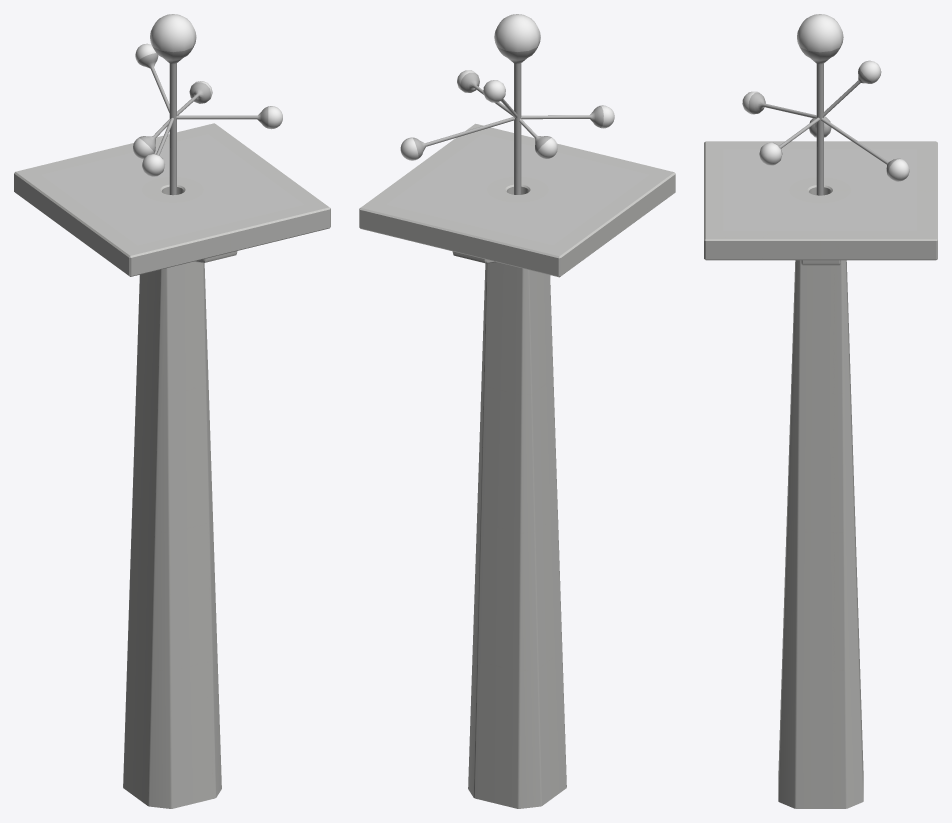
File: PlatformSmallHazardSpinning.fbx
3 views of the same model, side by side, from view 1: azimuth 30°, elevation 25°; view 2: azimuth 150°, elevation 25°; view 3: azimuth 270°, elevation 25° (orthographic).
Visible parts, largest first — view 1: PlatformSmallHazardSpinning_Floor, LightPoleMain, SignArm4, SignArm1, SignArm2; view 2: PlatformSmallHazardSpinning_Floor, LightPoleMain, SignArm3, SignArm2; view 3: PlatformSmallHazardSpinning_Floor, LightPoleMain, SignArm3, SignArm2, SignArm1, SignArm4.
Part boxes in pixels (x1,y1,x2,y2): PlatformSmallHazardSpinning_Floor: (14, 123, 330, 808); LightPoleMain: (150, 14, 196, 195); SignArm4: (176, 106, 282, 129); SignArm1: (135, 43, 169, 112); SignArm2: (142, 118, 174, 176); PlatformSmallHazardSpinning_Floor: (359, 123, 675, 808); LightPoleMain: (494, 14, 540, 194); SignArm3: (400, 117, 514, 160); SignArm2: (521, 105, 614, 128); PlatformSmallHazardSpinning_Floor: (704, 141, 937, 808); LightPoleMain: (797, 14, 843, 195); SignArm3: (821, 118, 909, 181); SignArm2: (742, 91, 816, 118); SignArm1: (823, 60, 881, 116); SignArm4: (759, 117, 819, 165).
Bounding box in the file's own units: 300 × 1097 × 300.
